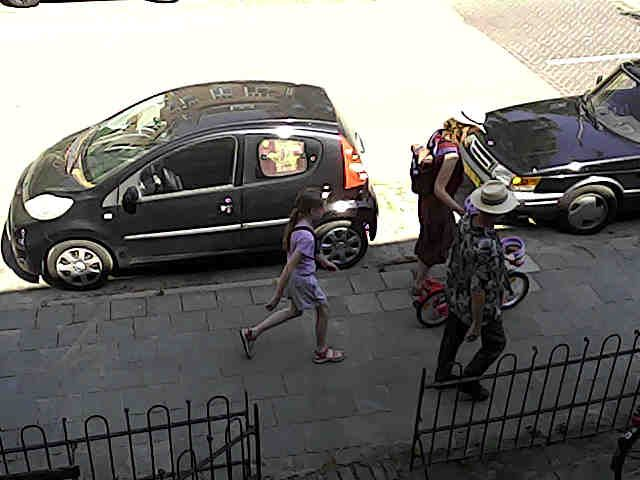male: (240, 187, 344, 362), (435, 180, 518, 381), (412, 118, 478, 294)
suv: (2, 81, 377, 288), (462, 60, 639, 233), (0, 0, 40, 7)
